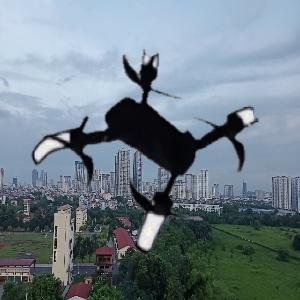drone: (29, 42, 261, 274)
